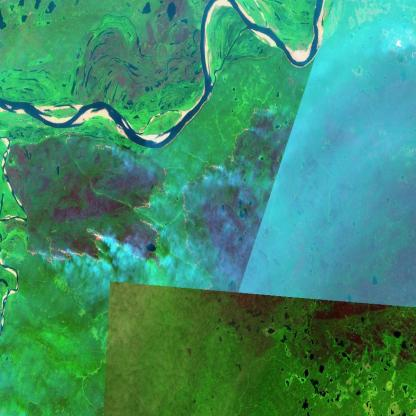fire: (180, 103, 274, 270), (27, 165, 171, 272), (394, 37, 416, 68)
